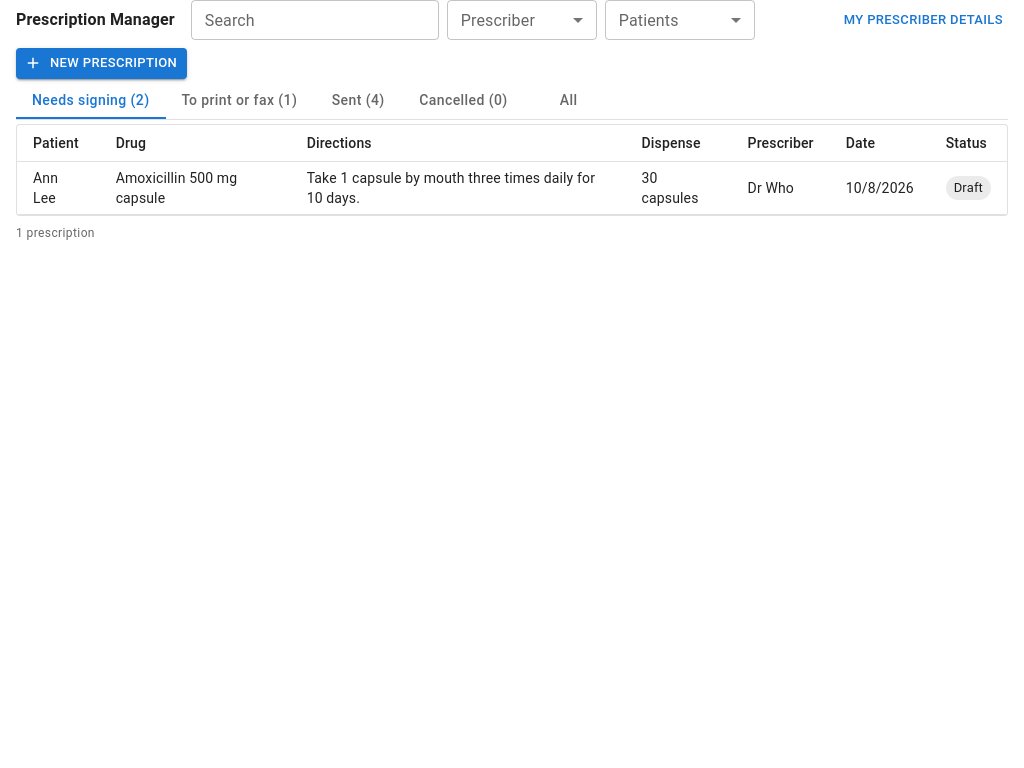
Test: opening a row shows the prescription with the steps the server allows
Click the row with test id "rx-row-11" at (512, 188), box [17,161,1007,214]
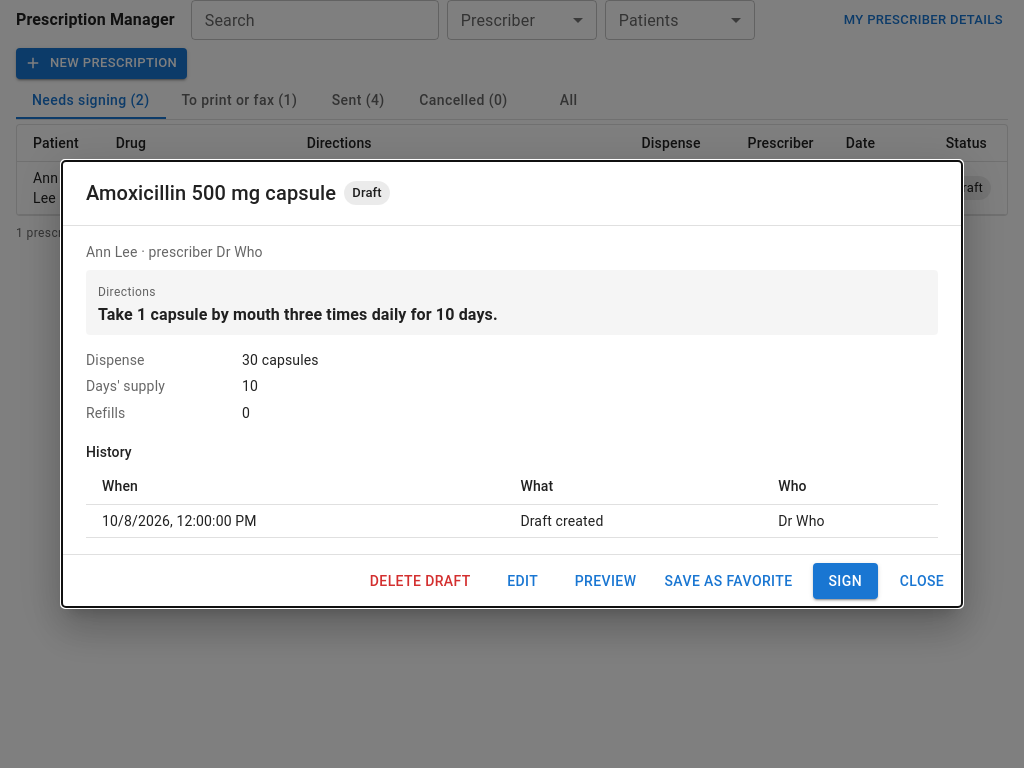
Result: the button with test id "rx-sign" is shown at [812,563,878,599]
